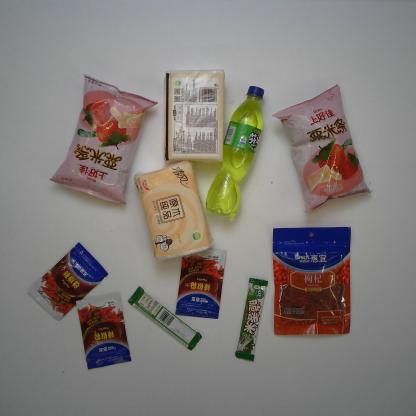Chocolate: (127, 285, 202, 351), (236, 276, 267, 362)
Dried Fruit: (268, 226, 354, 338)
Drink: (204, 85, 269, 218)
Puffed Food: (49, 75, 158, 205), (270, 83, 374, 213)
Seasoner: (25, 242, 108, 322), (76, 290, 132, 372), (174, 242, 228, 321)
Tissue: (135, 160, 215, 261), (163, 67, 226, 164)
